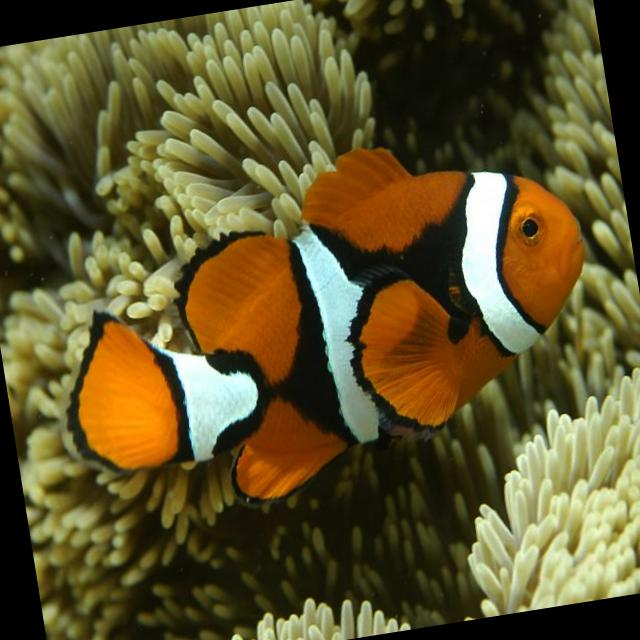ClownFish: (21, 116, 623, 540)
